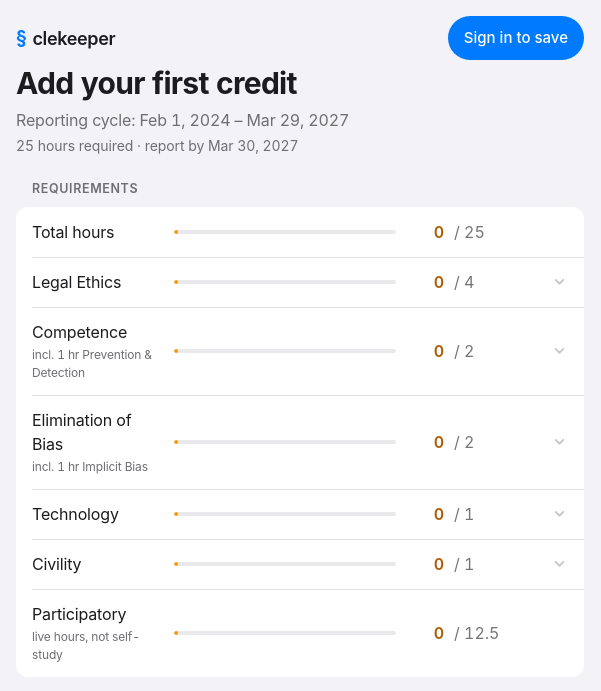
Test: on linked: flips to linked but does not reload (the live store subscription already reflects it)
Click the button "Sign in to save" at point(516, 38), box [448,16,584,60]
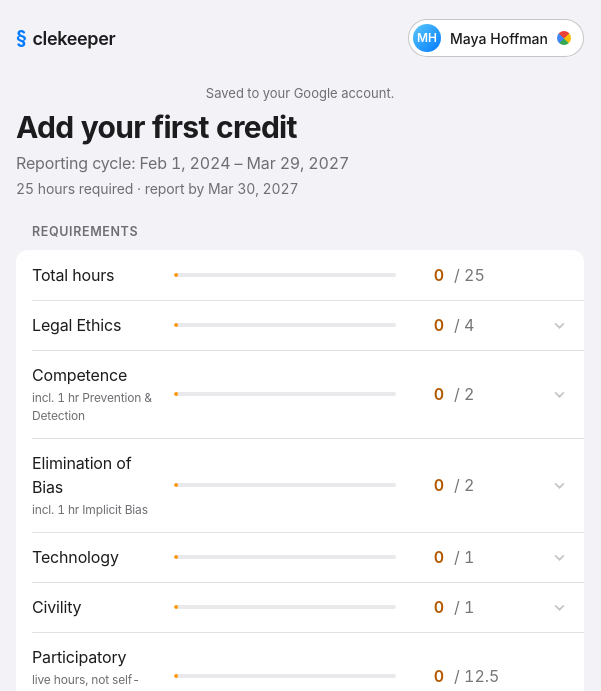
Now the button "Sign in to save" is gone
Now the text "Saved to your Google account." is shown, box [206,85,394,101]
